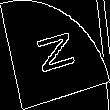N_W: (31, 29, 79, 81)
